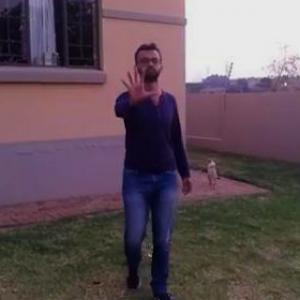follow_hand: (118, 60, 158, 108)
